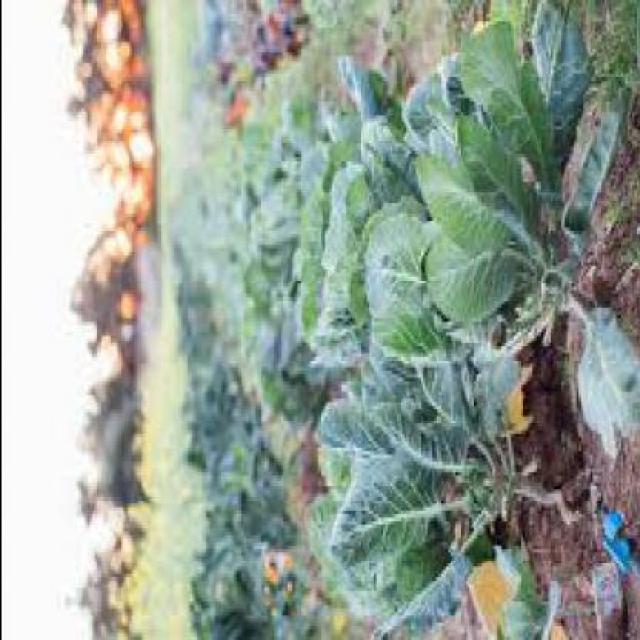BIODEGRADABLE: (352, 15, 638, 458), (300, 332, 531, 637), (288, 52, 412, 374), (247, 115, 321, 294), (188, 529, 284, 636), (251, 298, 324, 430), (254, 538, 335, 637), (216, 437, 293, 538), (200, 360, 246, 451), (182, 416, 218, 496)
